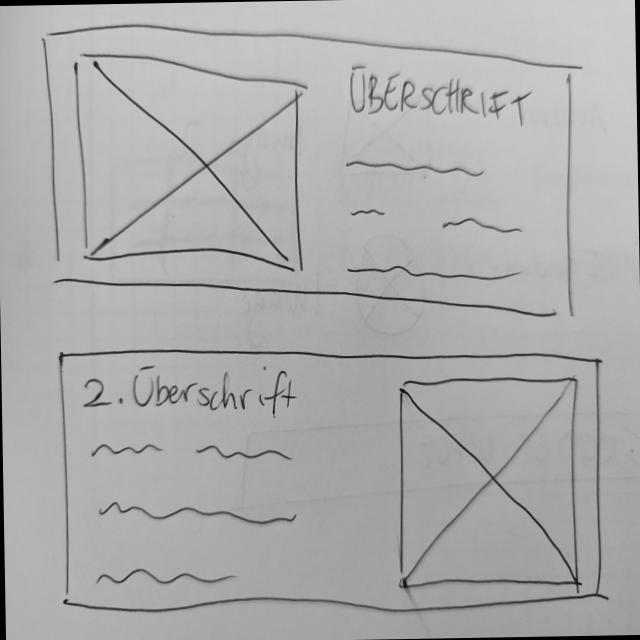container: (39, 14, 580, 331), (59, 339, 607, 621)
image: (72, 48, 307, 280), (395, 374, 585, 592)
label: (346, 60, 534, 136), (83, 363, 299, 425)
textbox: (89, 435, 301, 589), (342, 152, 528, 292)
